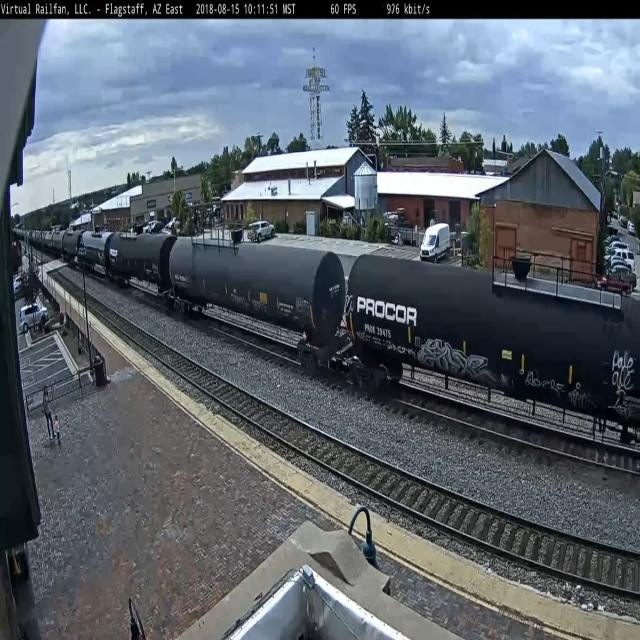tank: (341, 242, 640, 461), (164, 227, 348, 382), (106, 226, 174, 304)
